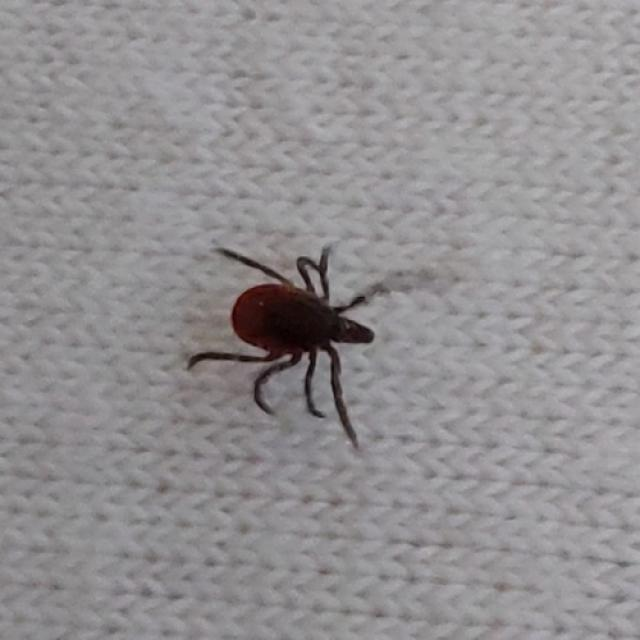Ixodes Ricinus-F: (187, 244, 375, 449)
